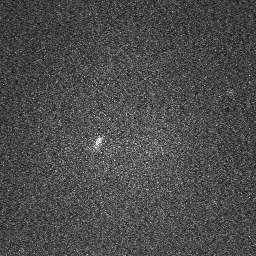dot: (95, 136, 103, 150)
